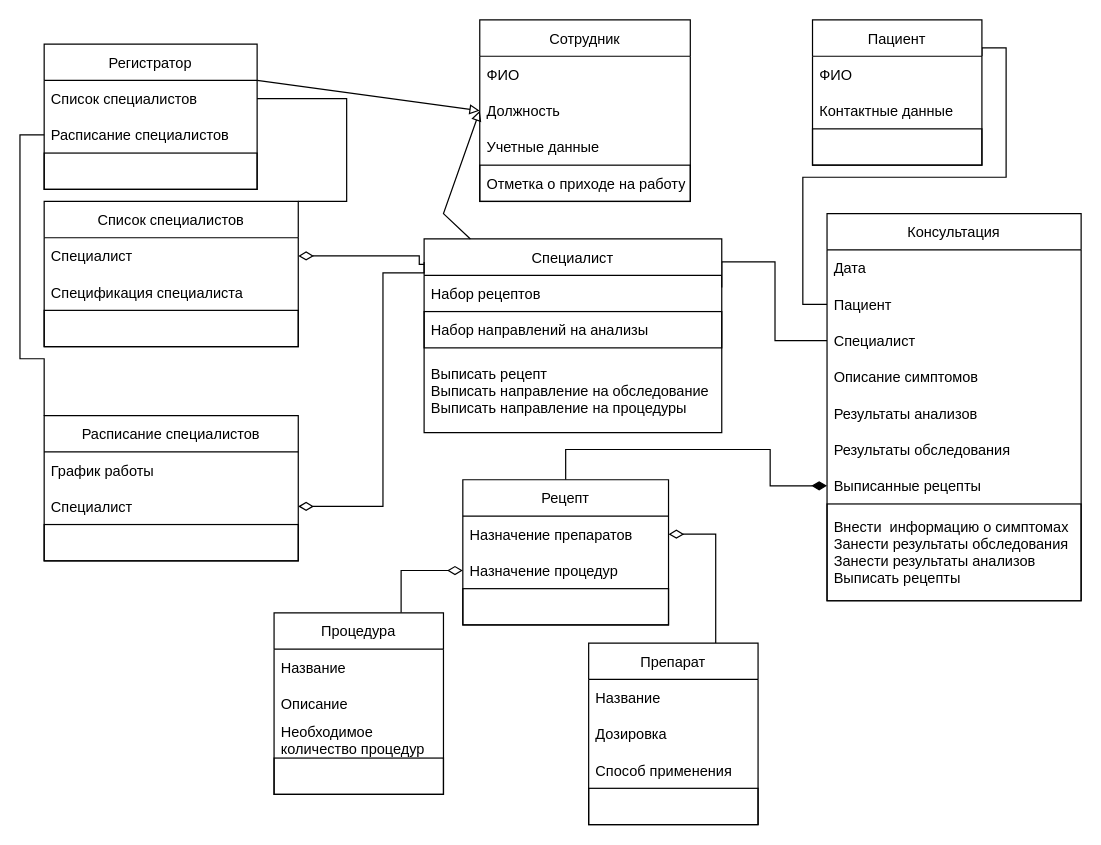
Some shapes in this 1101 by 845 pixel diagram are drawn without their labels. Here are the shapes that lost their labels. From the top down, the centre of each, then its label:
point (896, 146): Изменить данные
point (150, 170): Записать на приём
point (170, 328): Получить Список Изменить Список
point (170, 542): Получить расписание Изменить расписание
point (565, 606): Изменить рецепт Выписать рецепт
point (358, 775): Изменить процедуру
point (672, 806): Изменить препарат
